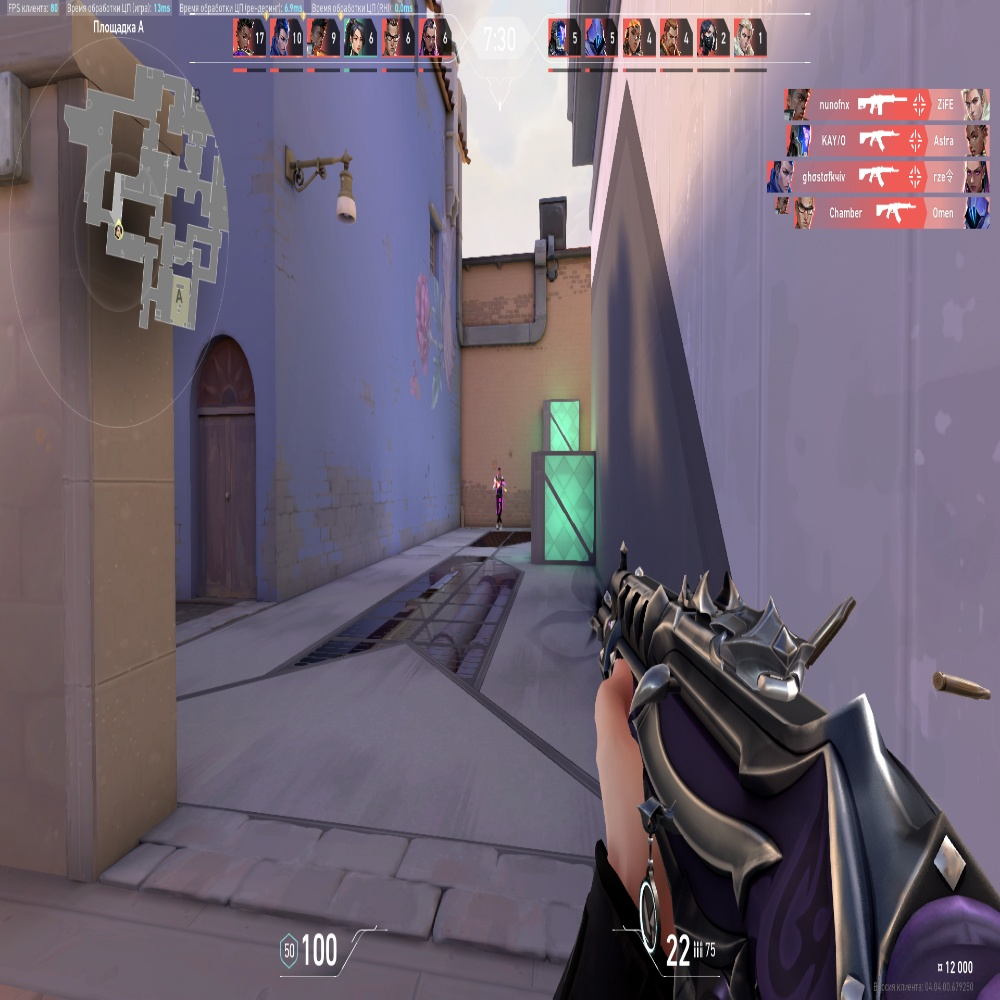body: (495, 479, 503, 500)
head: (497, 467, 502, 477)
